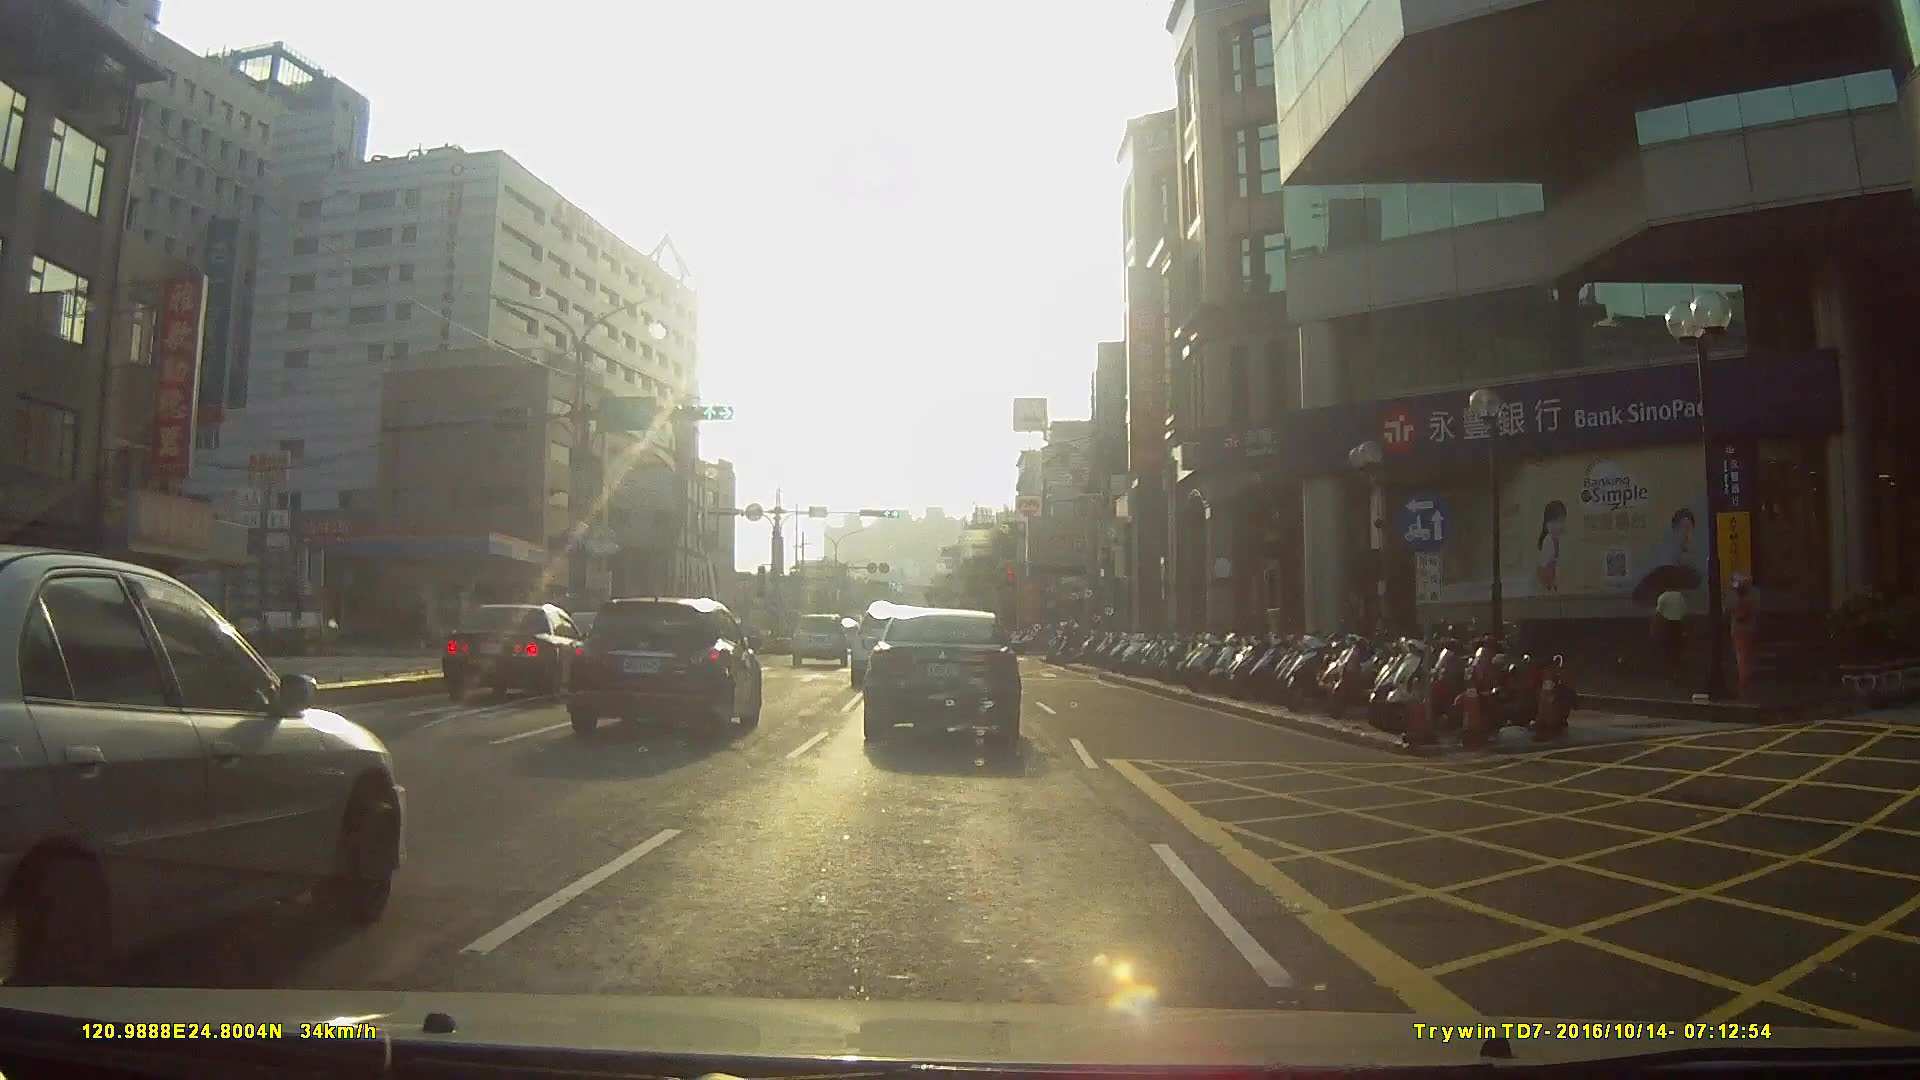pedestrian: (1724, 561, 1773, 707), (1650, 567, 1696, 684)
vehicle: (0, 539, 390, 1004), (554, 588, 754, 733), (860, 604, 1019, 748), (441, 600, 605, 704), (792, 612, 849, 672)
